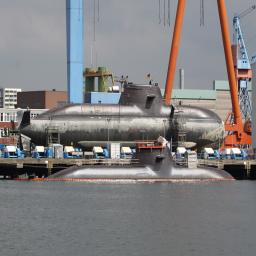submarine: (26, 88, 236, 148), (39, 147, 248, 184)
